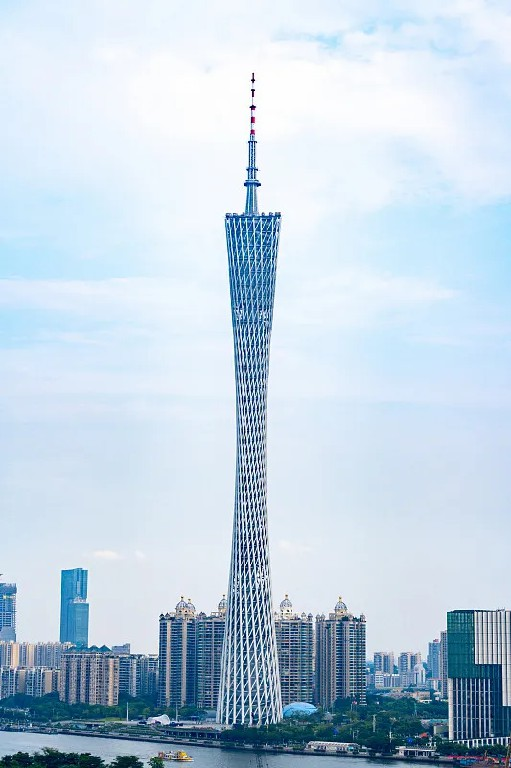Canton: (214, 72, 283, 729)
